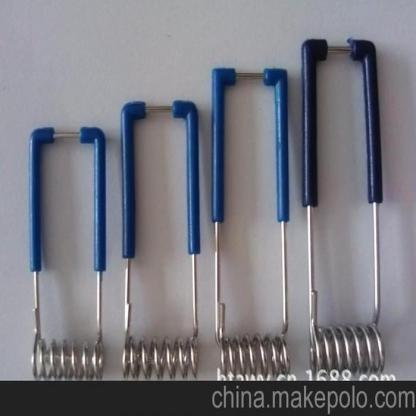FOD: (298, 34, 386, 376), (211, 65, 290, 379), (119, 98, 202, 380), (23, 123, 108, 384)
